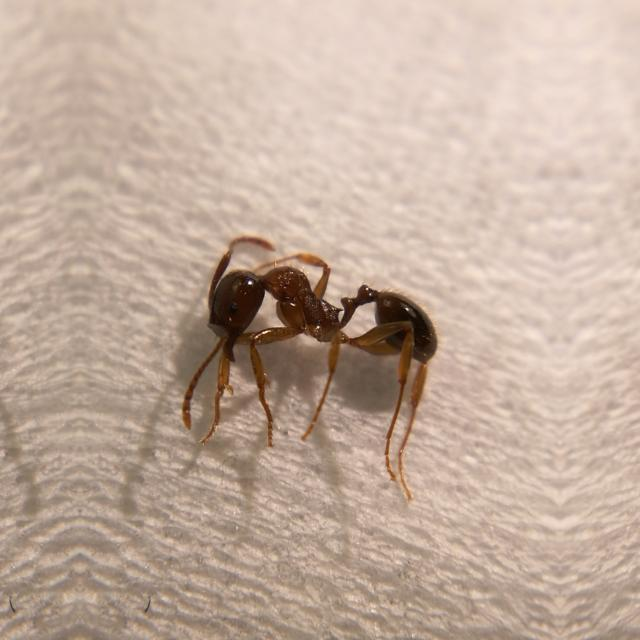Apheanogaster: (173, 212, 453, 456)
